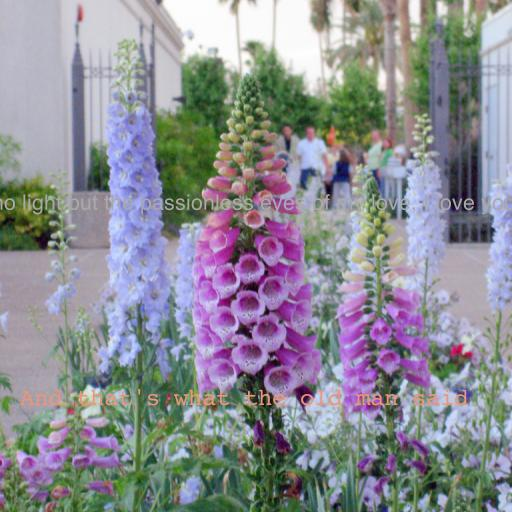Apple Chancery: (0, 194, 512, 215)
Courier: (20, 388, 468, 406)
